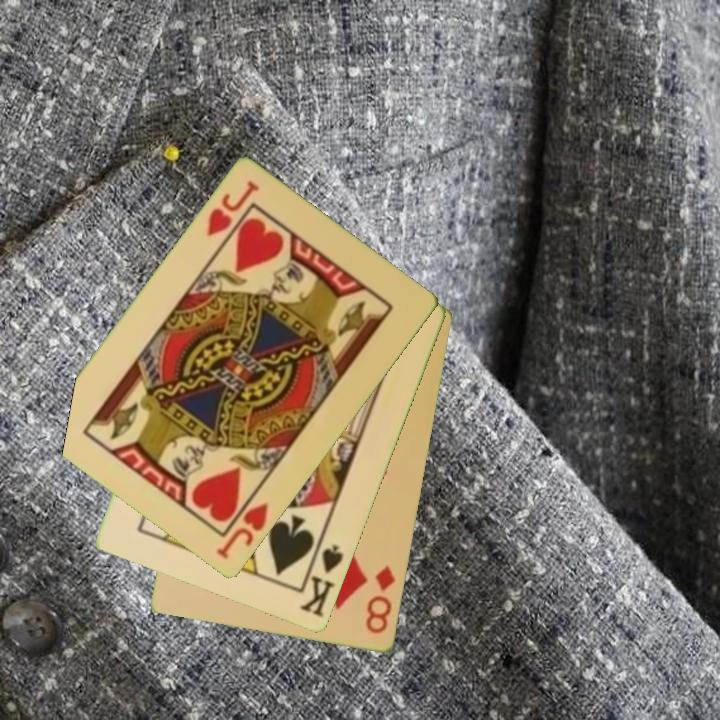8d: (362, 562, 398, 637)
Jh: (203, 177, 263, 240), (213, 499, 272, 563)
Ks: (296, 535, 347, 621)
